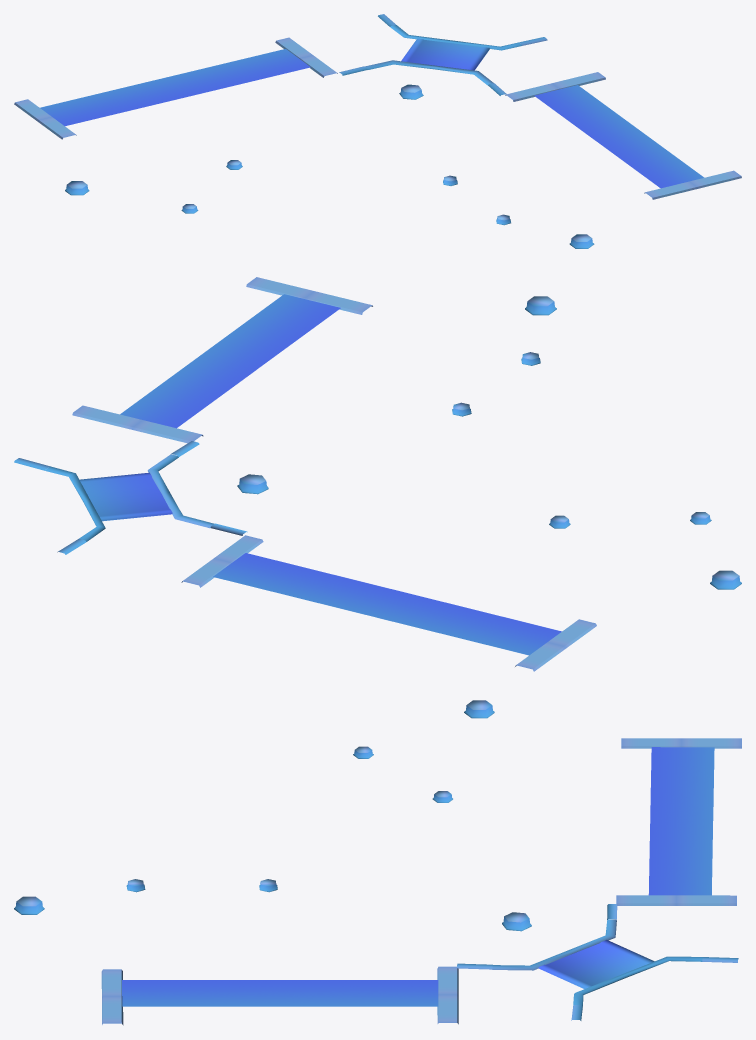
Rendered from Area_09_3.FBX.
The picture shows the model from 3 angles, top to bottom: view 1: azimuth 30°, elevation 25°; view 2: azimuth 150°, elevation 25°; view 3: azimuth 270°, elevation 25°; orthographic projection. The views are drawn at different scales.
Visible parts, largest first — view 1: Area_09_3; view 2: Area_09_3; view 3: Area_09_3.
Part boxes in pixels (bbox=[...]): Area_09_3: bbox=[14, 14, 741, 248]; Area_09_3: bbox=[14, 277, 741, 671]; Area_09_3: bbox=[14, 700, 741, 1025].
Bounding box in the file's own units: 9283 × 135 × 9013.
